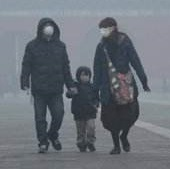person: (93, 15, 152, 153), (21, 16, 75, 152), (66, 65, 102, 152)
